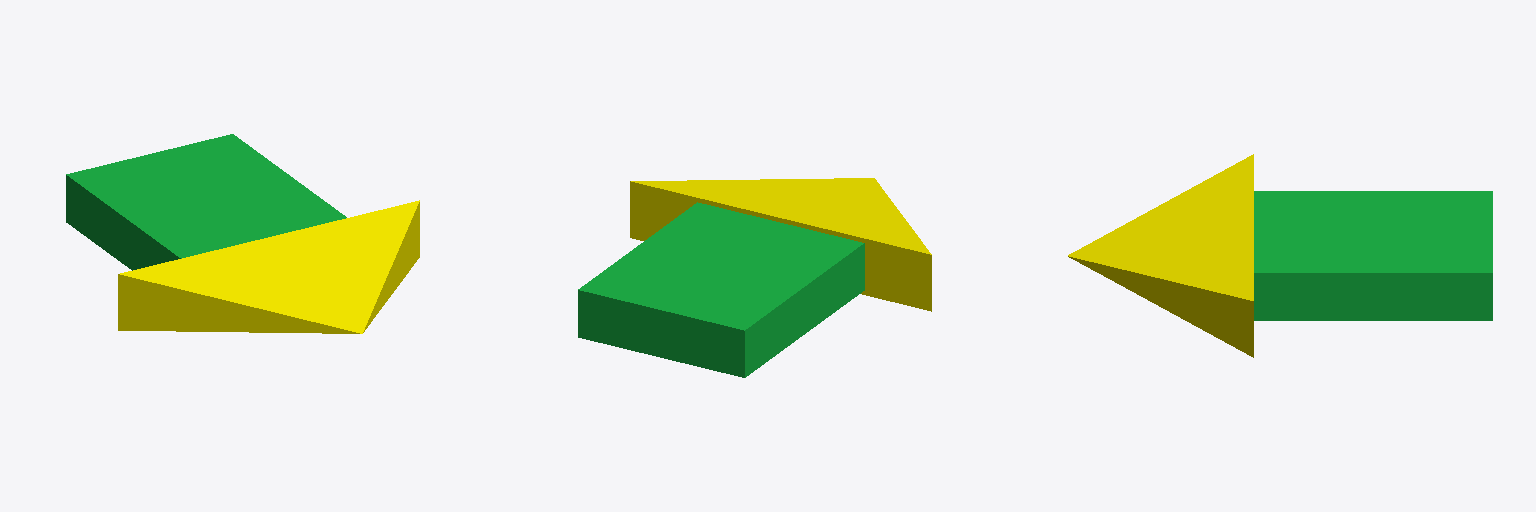
File: arrow.obj
3 renders of one model, left to right at view 1: azimuth 30°, elevation 25°; view 2: azimuth 150°, elevation 25°; view 3: azimuth 270°, elevation 25°, orthographic.
Parts seen in each view (by area): view 1: Object.1; view 2: Object.1; view 3: Object.1.
Part boxes in pixels (bbox=[...]): Object.1: bbox=[66, 134, 419, 333]; Object.1: bbox=[578, 178, 931, 377]; Object.1: bbox=[1068, 154, 1492, 357].
Bounding box in the file's own units: 27.61 × 4.95 × 33.76.